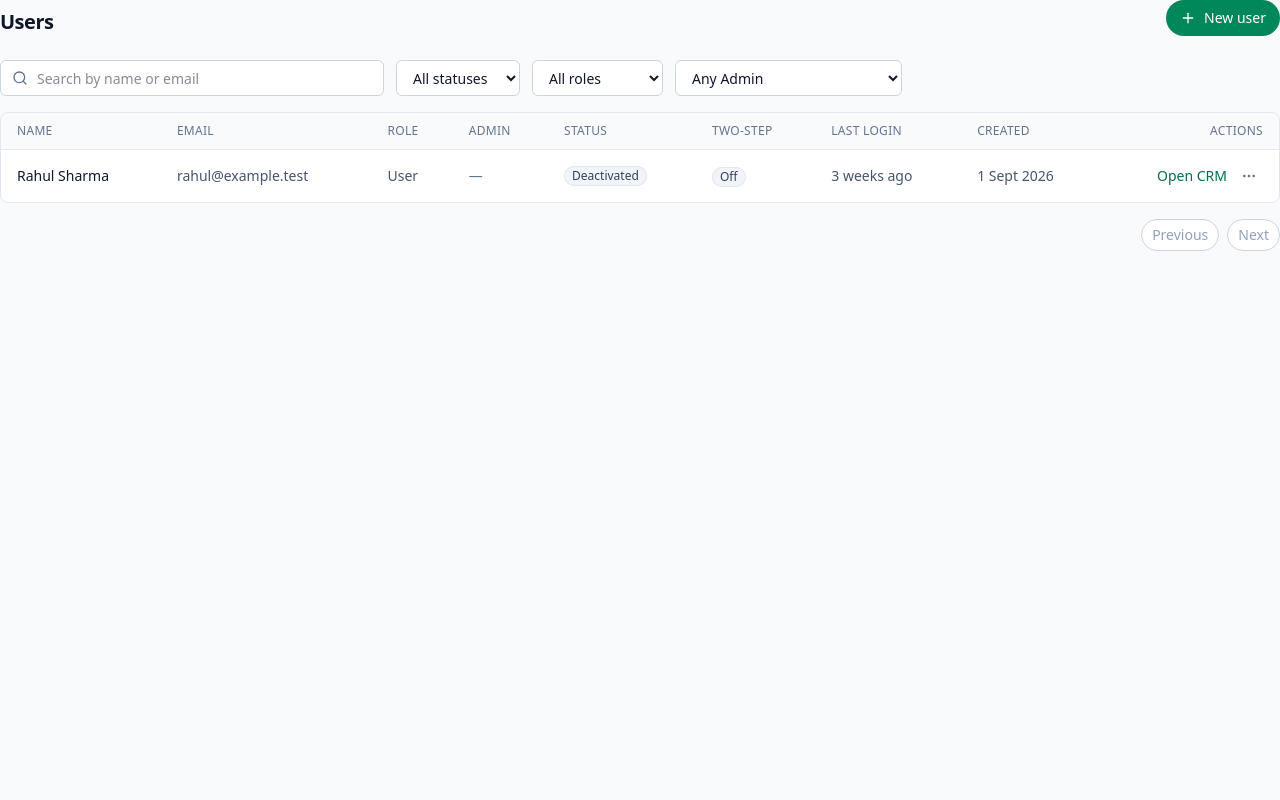
Test case: a user's privacy actions, from their details › pseudonymises a deactivated user only once their exact email is typed, then shows what was removed
The width and height of the screenshot is (1280, 800).
Click the button "Rahul Sharma" at {"x": 63, "y": 176}, box [17,166,109,186]
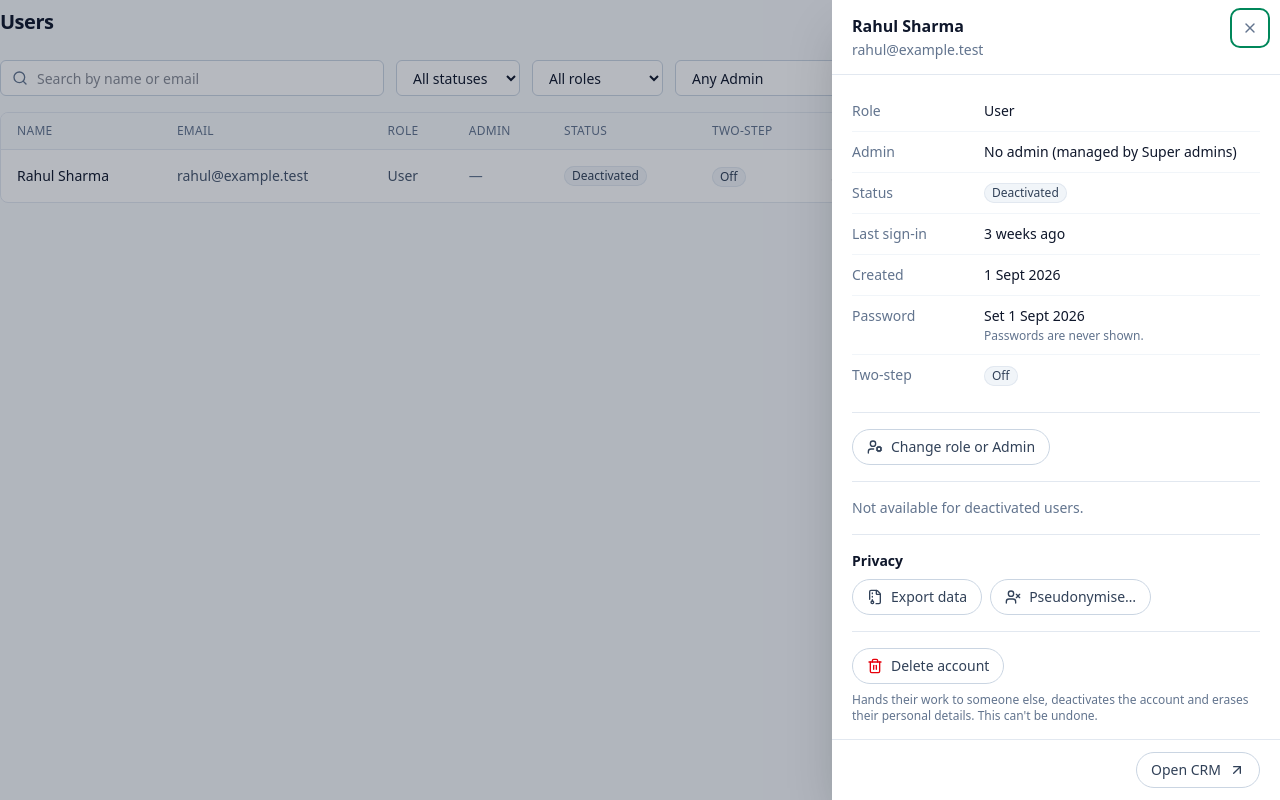
Click the button "Pseudonymise…" at {"x": 1071, "y": 597}, box [990,579,1151,615]
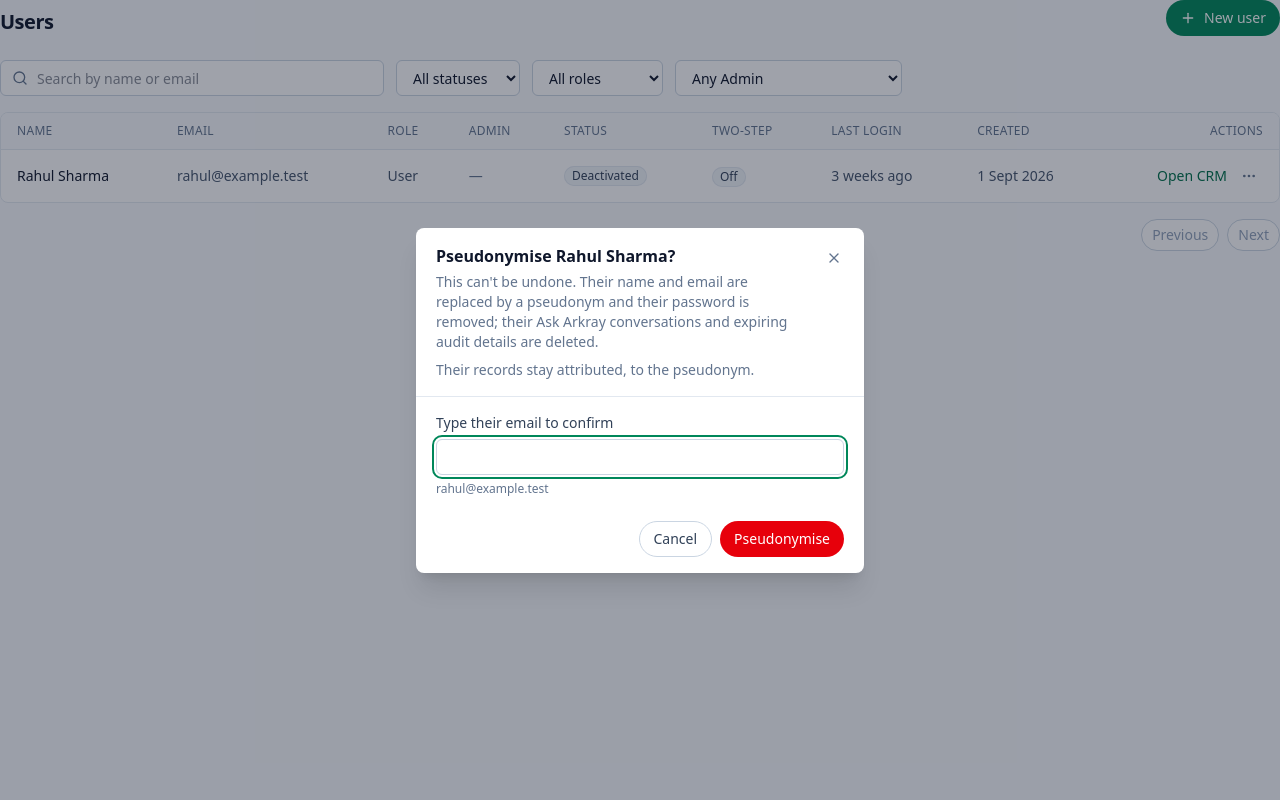
Click the button "Pseudonymise" at {"x": 782, "y": 538}, box [720,520,844,556]
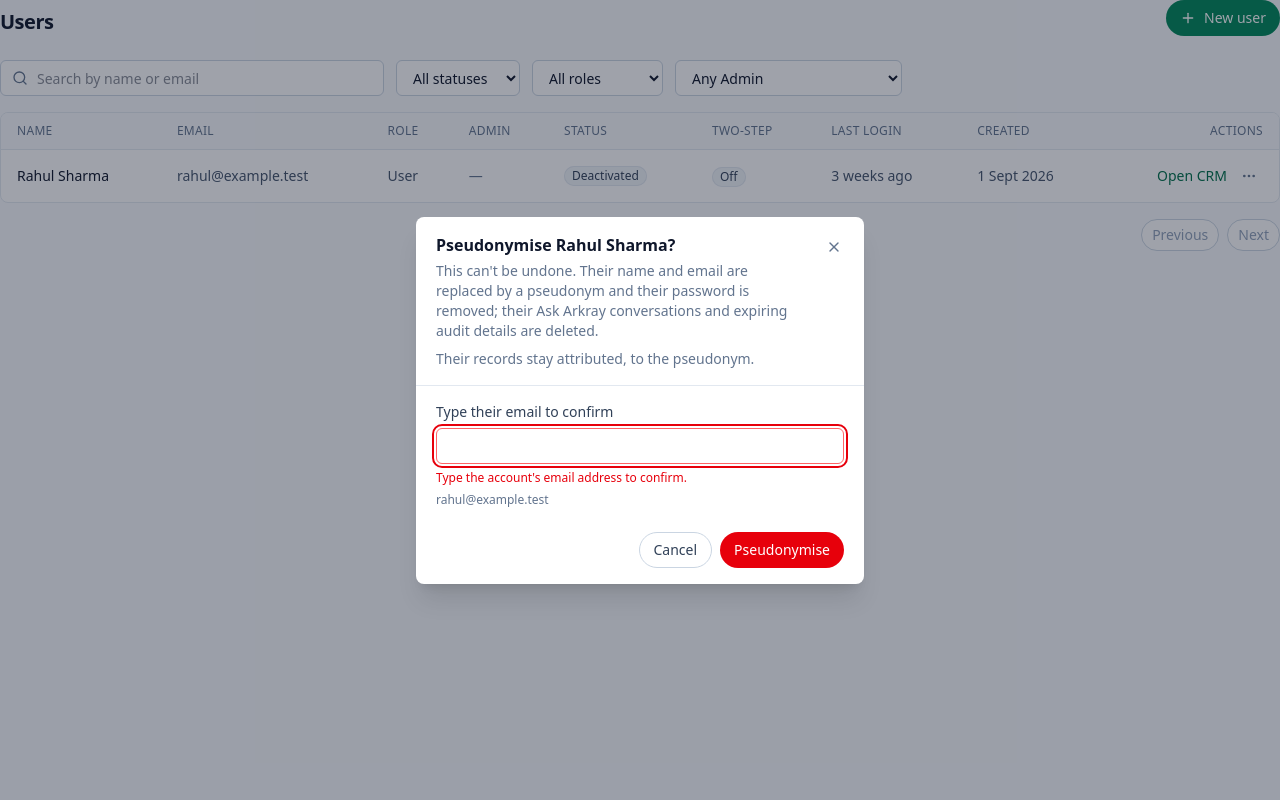
Type "rahul@example.tes" into the field labelled "Type their email to confirm" at {"x": 640, "y": 446}, box [436,428,844,464]
Click the button "Pseudonymise" at {"x": 782, "y": 550}, box [720,532,844,568]
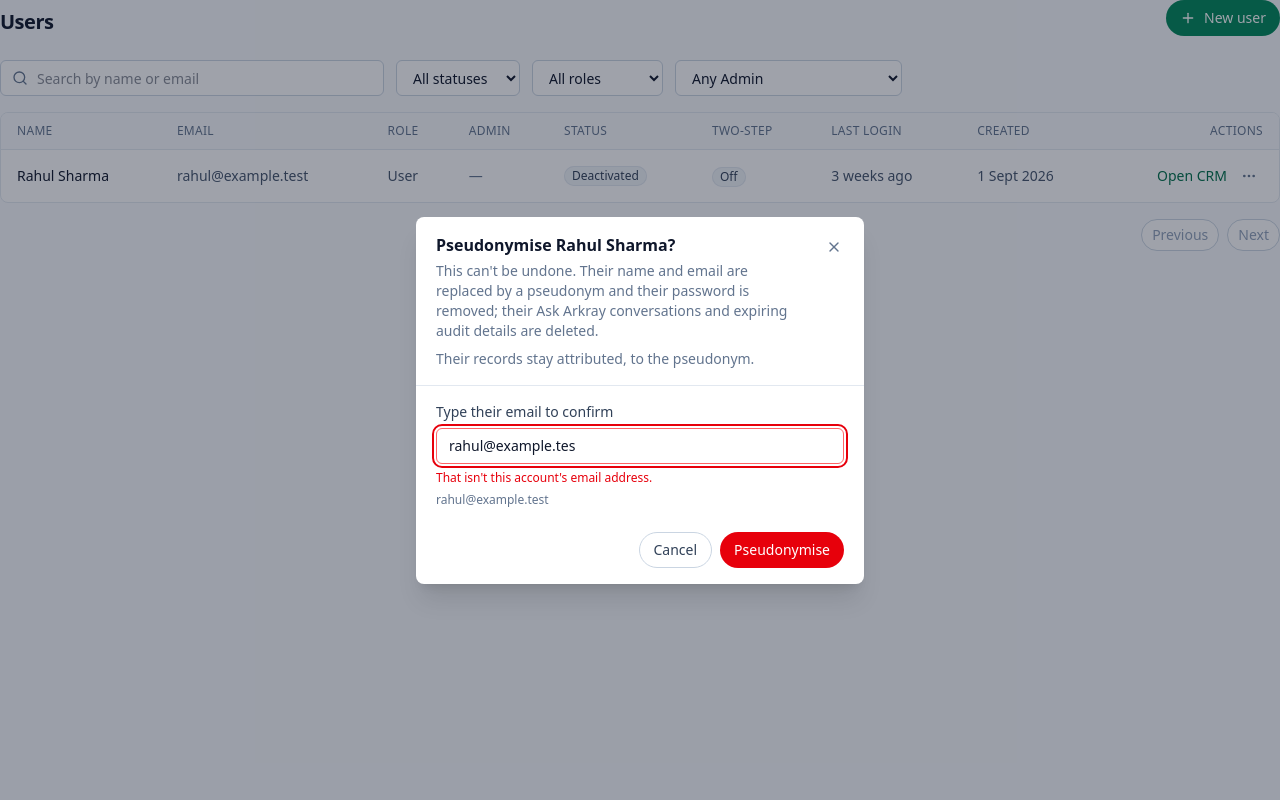
Type "t" into the field labelled "Type their email to confirm" at {"x": 640, "y": 446}, box [436,428,844,464]
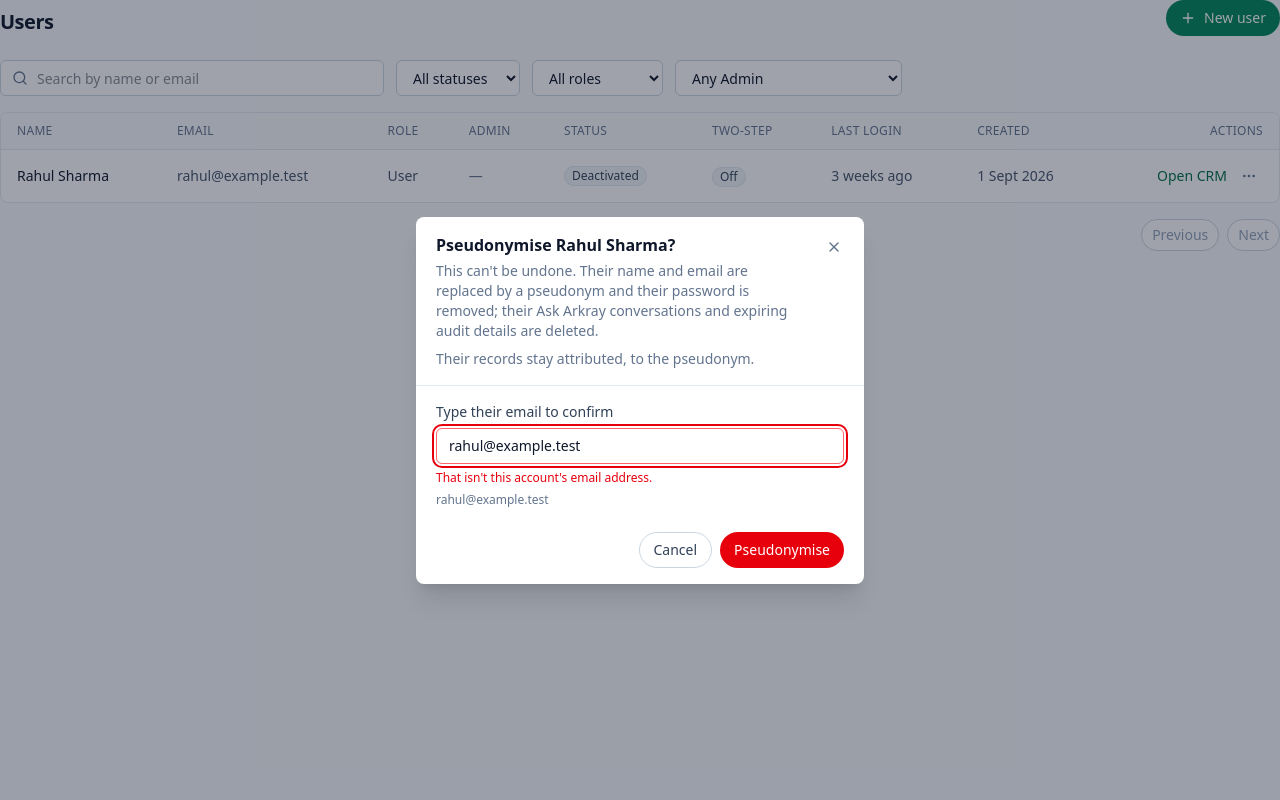
Click the button "Pseudonymise" at {"x": 782, "y": 550}, box [720,532,844,568]
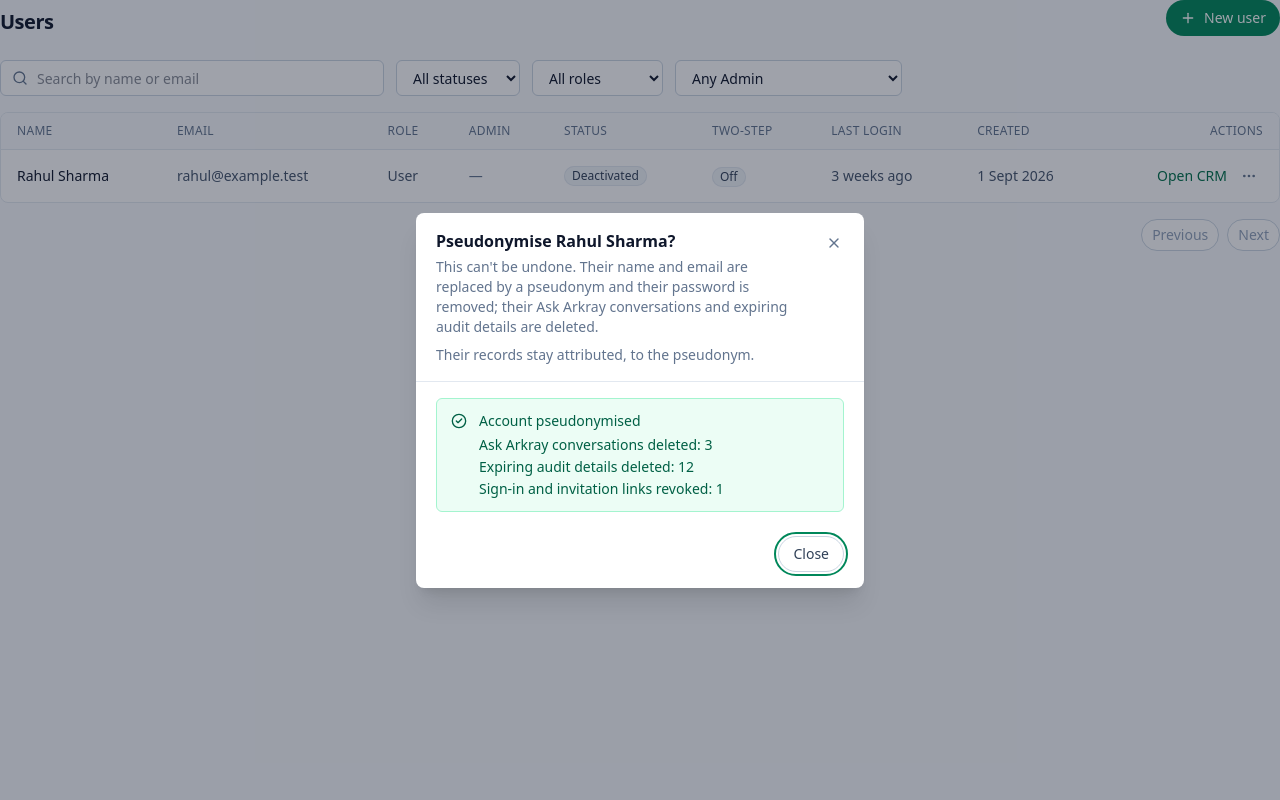
Expected: the text "Account pseudonymised" is shown, [479,410,640,430]
Expected: the dialog "Pseudonymise Rahul Sharma?" shows "Ask Arkray conversations deleted: 3", [416,212,864,588]
Expected: the dialog "Pseudonymise Rahul Sharma?" shows "Expiring audit details deleted: 12", [416,212,864,588]
